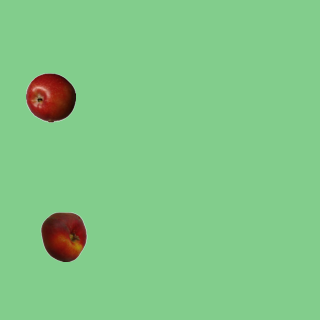Apple Braeburn: (25, 72, 75, 122)
Nectarine Flat: (38, 211, 88, 261)
